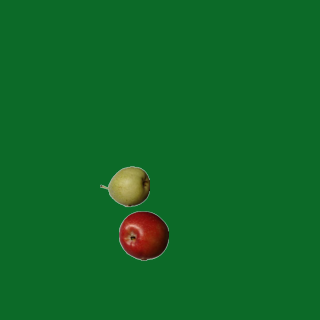Apple Braeburn: (118, 210, 168, 260)
Pear: (99, 161, 149, 211)
